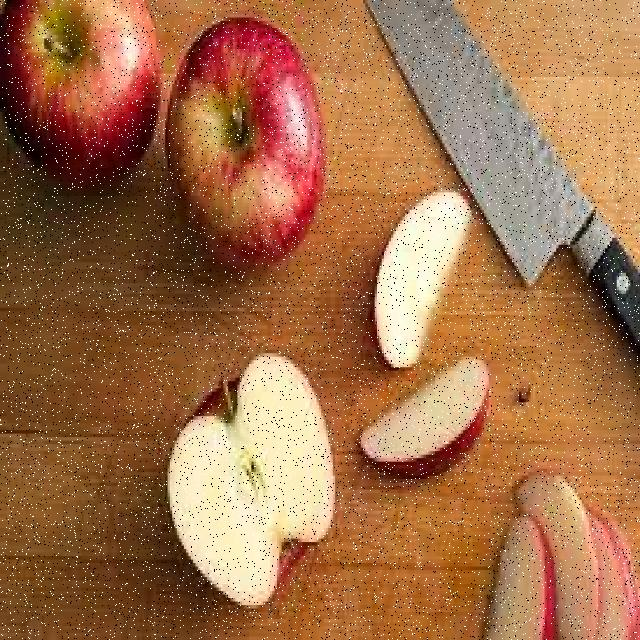Apple: (166, 351, 337, 614), (164, 19, 324, 260), (0, 1, 162, 181), (352, 364, 493, 501), (365, 193, 468, 368), (477, 521, 554, 640)
